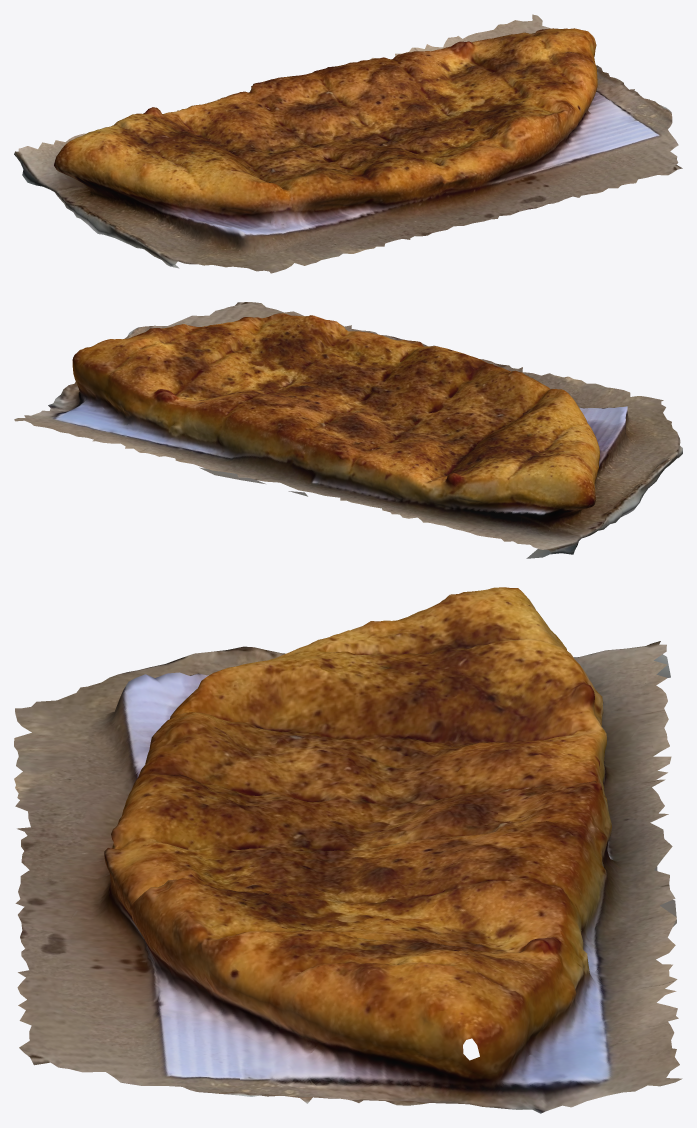
The model's file is Garlic_Bread.glb.
The picture shows the model from 3 angles, top to bottom: view 1: azimuth 30°, elevation 25°; view 2: azimuth 150°, elevation 25°; view 3: azimuth 270°, elevation 25°; orthographic projection. The views are drawn at different scales.
Parts seen in each view (by area): view 1: Mesh; view 2: Mesh; view 3: Mesh.
Part boxes in pixels (x1,y1,x2,y2): Mesh: (14,14,682,273); Mesh: (14,302,682,558); Mesh: (14,587,682,1113).
Size of the model in its own units: 0.2396 by 0.0281 by 0.147.
Materials: 1 (1 with a texture image).
